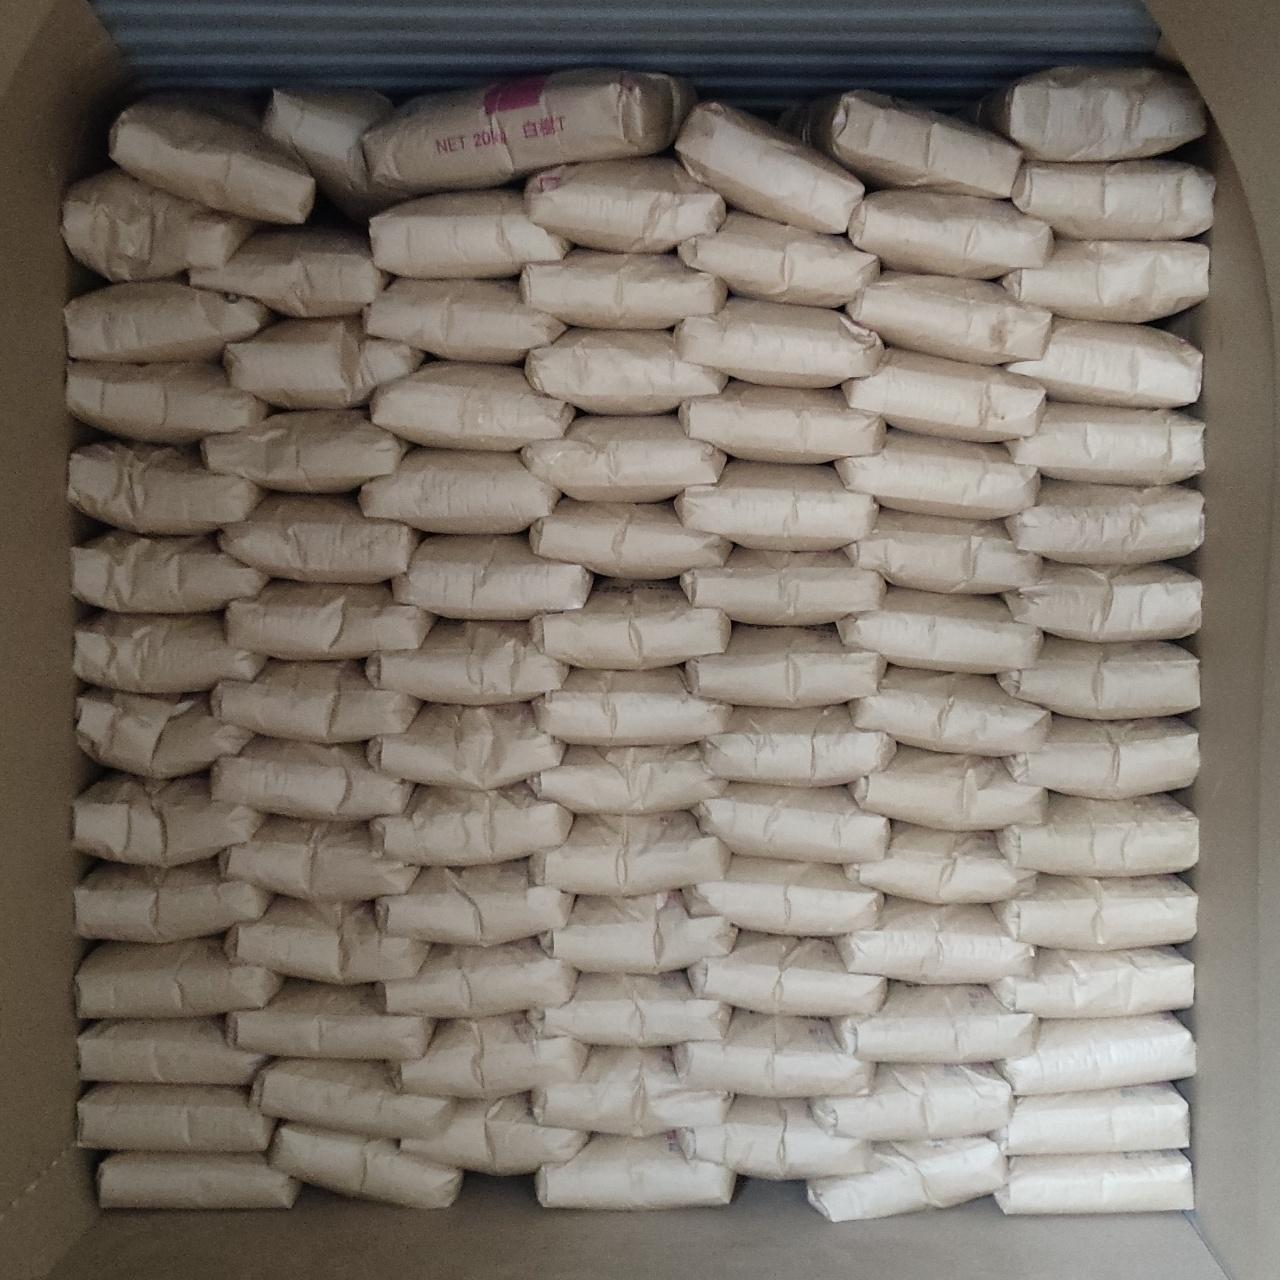sack: (362, 69, 695, 192), (109, 98, 315, 223), (675, 102, 864, 233), (806, 90, 1023, 198), (62, 169, 256, 281), (979, 67, 1205, 162), (678, 211, 880, 307), (525, 156, 726, 252), (846, 271, 1051, 365), (264, 89, 410, 219), (674, 297, 884, 387), (843, 348, 1046, 441), (223, 316, 424, 408), (675, 459, 878, 550), (67, 441, 264, 533), (849, 189, 1053, 278), (1005, 316, 1201, 408), (850, 666, 1049, 756), (219, 493, 421, 583), (835, 429, 1039, 517), (189, 226, 387, 316), (532, 1049, 733, 1138), (369, 363, 574, 450), (836, 587, 1043, 673), (211, 659, 421, 743), (520, 416, 726, 502), (673, 1009, 872, 1097), (390, 1012, 588, 1099), (532, 581, 730, 669), (225, 898, 428, 983), (358, 448, 560, 533), (679, 379, 884, 463), (837, 896, 1034, 983), (370, 189, 568, 275), (1002, 239, 1208, 322), (73, 776, 263, 866), (362, 278, 565, 362), (366, 620, 568, 704), (392, 535, 593, 619), (525, 328, 727, 413), (367, 703, 565, 789), (1005, 479, 1203, 565), (202, 410, 408, 492), (850, 745, 1047, 831), (998, 636, 1199, 720), (379, 859, 572, 946), (1005, 401, 1203, 485), (76, 937, 282, 1017), (520, 248, 727, 329), (218, 816, 418, 899), (372, 783, 572, 866), (66, 361, 268, 443), (210, 737, 413, 819), (688, 932, 885, 1016), (832, 982, 1037, 1063), (531, 812, 730, 896), (226, 580, 434, 660), (844, 510, 1040, 594), (225, 980, 435, 1058), (686, 625, 886, 707), (998, 795, 1198, 877), (1002, 715, 1197, 799), (72, 530, 268, 613), (64, 281, 273, 360), (75, 859, 271, 942), (268, 1122, 458, 1207), (1012, 159, 1212, 240), (699, 704, 896, 787), (809, 1138, 1006, 1220), (542, 892, 737, 974), (999, 1014, 1194, 1096), (1002, 561, 1200, 642), (377, 938, 577, 1017), (693, 782, 888, 863), (77, 689, 252, 779), (530, 499, 730, 578), (679, 549, 885, 625), (678, 1097, 871, 1178), (252, 1060, 452, 1137), (685, 857, 881, 935), (849, 821, 1036, 903), (74, 611, 264, 692), (993, 874, 1197, 949), (810, 1065, 1012, 1141), (532, 667, 730, 743), (536, 1133, 736, 1208), (402, 1096, 588, 1175), (989, 947, 1193, 1019), (527, 974, 729, 1046), (990, 1082, 1189, 1155), (532, 744, 727, 813), (79, 1083, 275, 1151), (994, 1151, 1193, 1214), (79, 1017, 265, 1084), (97, 1152, 300, 1208)
